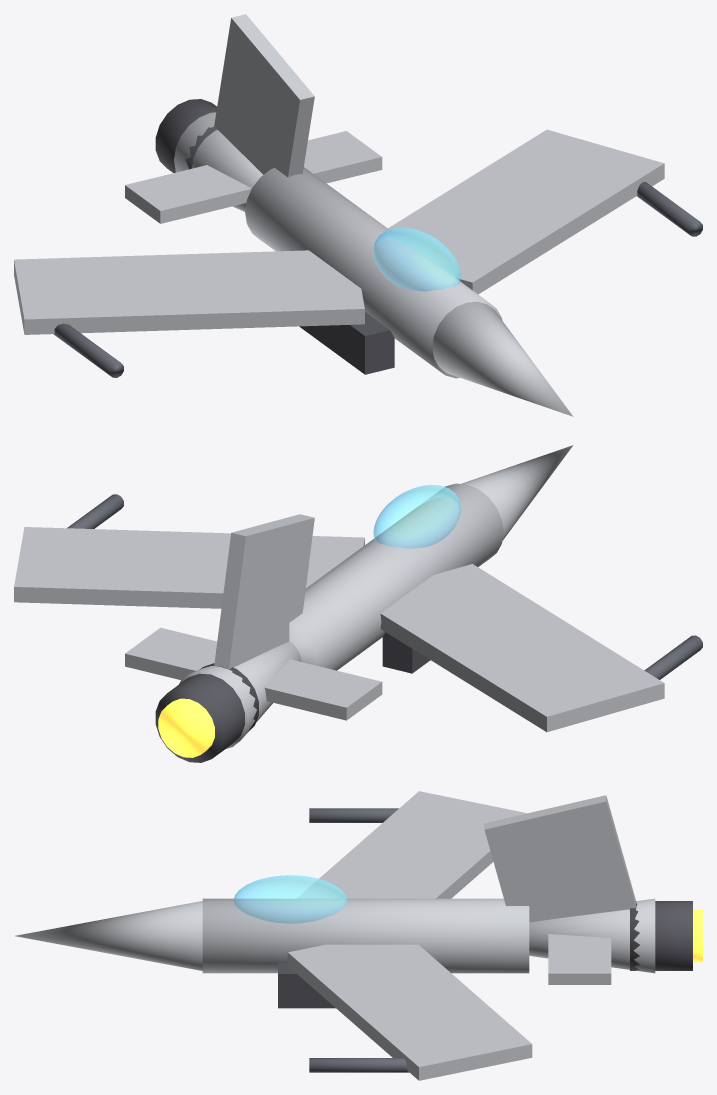
The model's file is fighter.glb.
3 renders of one model, top to bottom at view 1: azimuth 30°, elevation 25°; view 2: azimuth 150°, elevation 25°; view 3: azimuth 270°, elevation 25°, orthographic. The views are drawn at different scales.
Visible parts, largest first — view 1: fighter; view 2: fighter; view 3: fighter.
Boxes of the visible parts, box(x1,y1,x2,y2) form: fighter: box(14, 14, 702, 416); fighter: box(14, 445, 702, 762); fighter: box(15, 791, 702, 1080).
Size of the model in its own units: 0.5196 by 0.1618 by 0.548.
